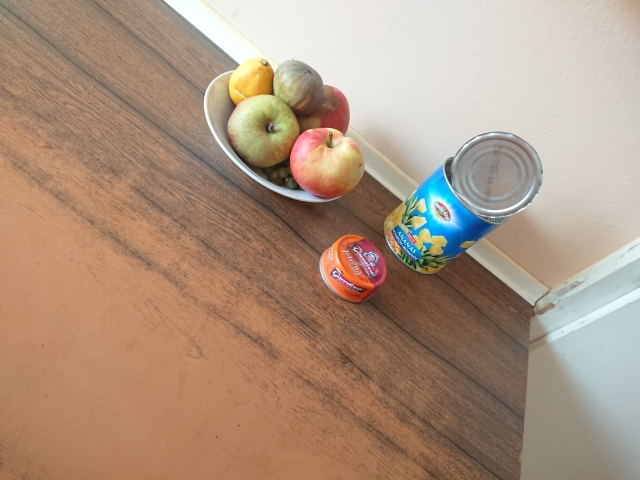Gavrilovic Pork Liver Pate 100g: (316, 232, 390, 307)
